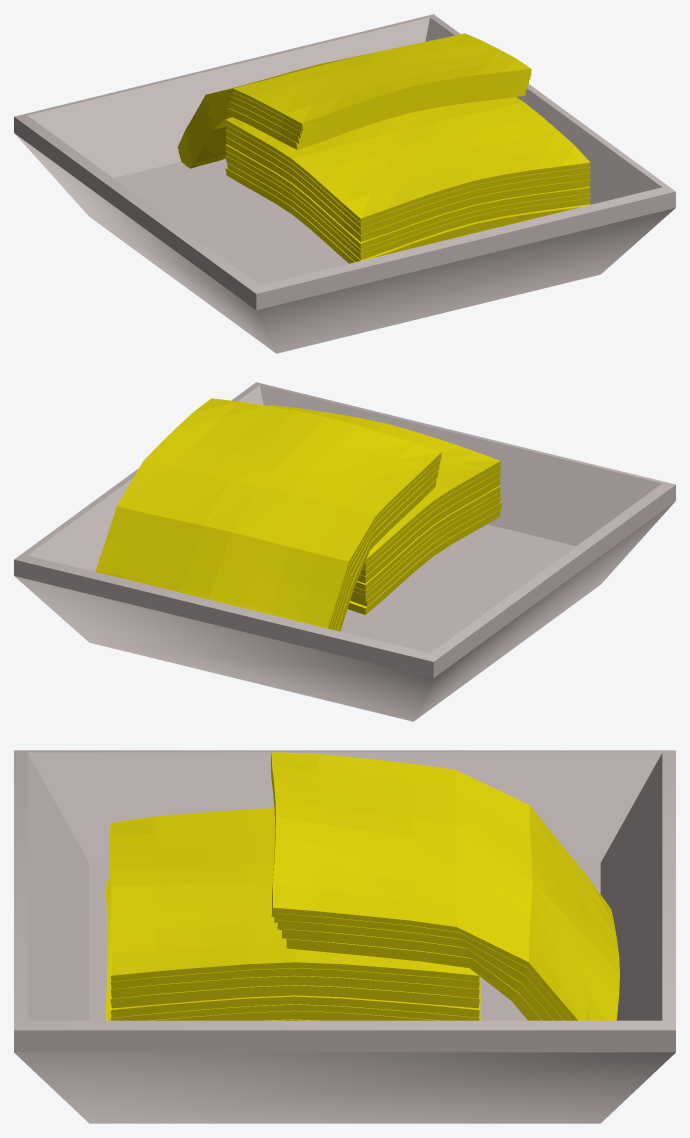
Rendered from Tray with cheese.fbx.
The picture shows the model from 3 angles, top to bottom: view 1: azimuth 30°, elevation 25°; view 2: azimuth 150°, elevation 25°; view 3: azimuth 270°, elevation 25°; orthographic projection. The views are drawn at different scales.
Visible parts, largest first — view 1: trays_for_toppings:pCube1, pasted__Cheese (×8), group11_pasted__group3_pasted__pasted__Cheese, Cheese; view 2: trays_for_toppings:pCube1, group11_pasted__group3_pasted__pasted__Cheese, pasted__Cheese (×8), Cheese; view 3: trays_for_toppings:pCube1, group11_pasted__group3_pasted__pasted__Cheese, pasted__Cheese (×8).
Part boxes in pixels (x1,y1,x2,y2): trays_for_toppings:pCube1: (14, 14, 675, 353); pasted__Cheese (×8): (225, 97, 590, 261); group11_pasted__group3_pasted__pasted__Cheese: (177, 33, 531, 168); Cheese: (225, 167, 509, 263); trays_for_toppings:pCube1: (14, 382, 675, 721); group11_pasted__group3_pasted__pasted__Cheese: (95, 398, 441, 631); pasted__Cheese (×8): (269, 405, 502, 606); Cheese: (347, 509, 500, 614); trays_for_toppings:pCube1: (14, 750, 675, 1123); group11_pasted__group3_pasted__pasted__Cheese: (270, 752, 619, 1020); pasted__Cheese (×8): (106, 808, 480, 1020).
Bounding box in the file's own units: 4.99 × 1.9 × 4.99.
